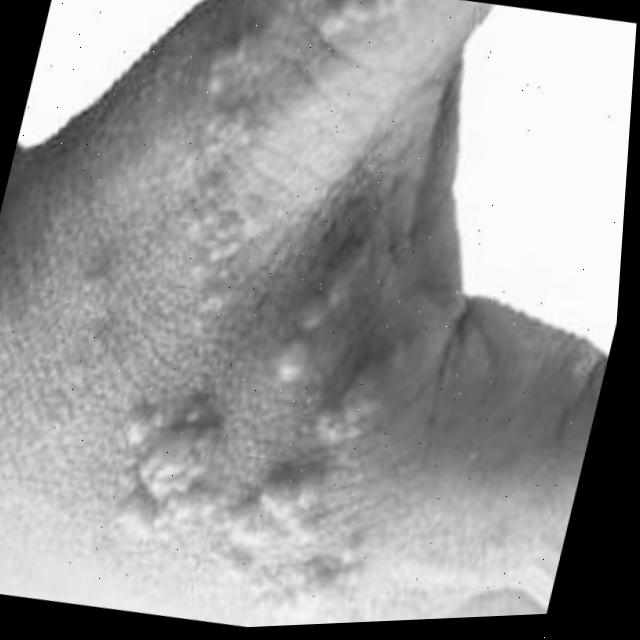Shingles: (38, 0, 526, 621)
